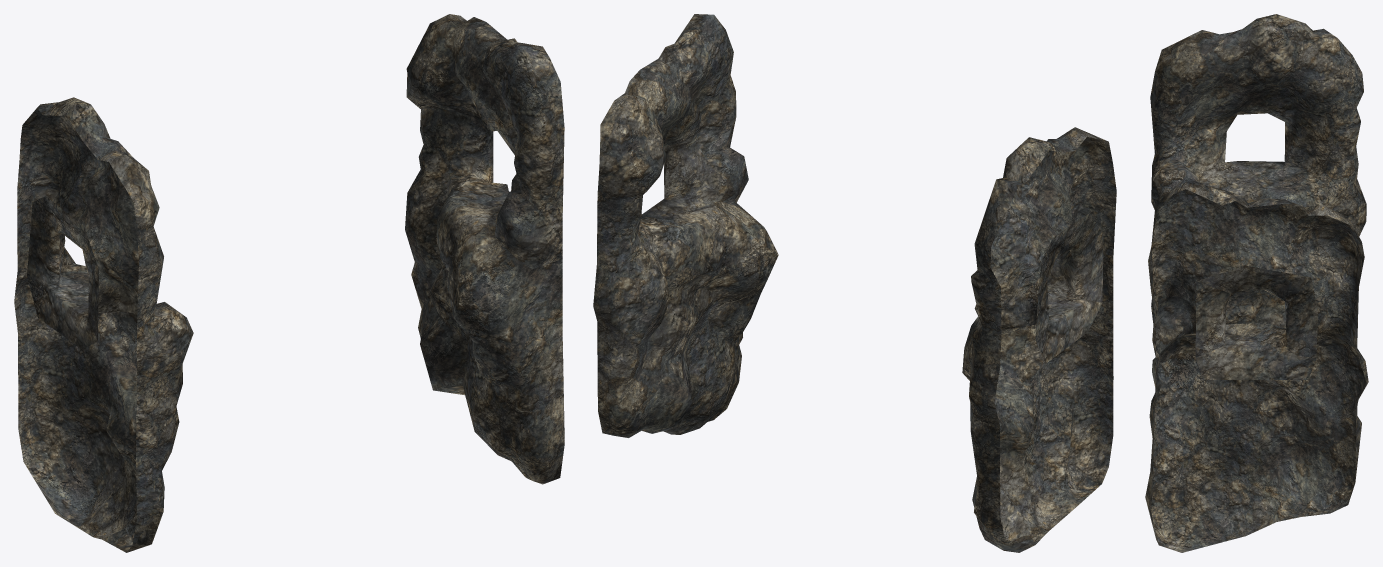
The model's file is Module18.fbx.
3 views of the same model, side by side, from view 1: azimuth 30°, elevation 25°; view 2: azimuth 150°, elevation 25°; view 3: azimuth 270°, elevation 25° (orthographic). The views are drawn at different scales.
Visible parts, largest first — view 1: cave_el18A_1000_Group9065; view 2: cave_el18A_1000_Group9065; view 3: cave_el18A_1000_Group9065.
Boxes of the visible parts, <box> form: cave_el18A_1000_Group9065: <box>14,14,564,552</box>; cave_el18A_1000_Group9065: <box>593,14,1116,552</box>; cave_el18A_1000_Group9065: <box>1145,14,1368,552</box>.
Size of the model in its own units: 30.63 by 27.95 by 15.38.
